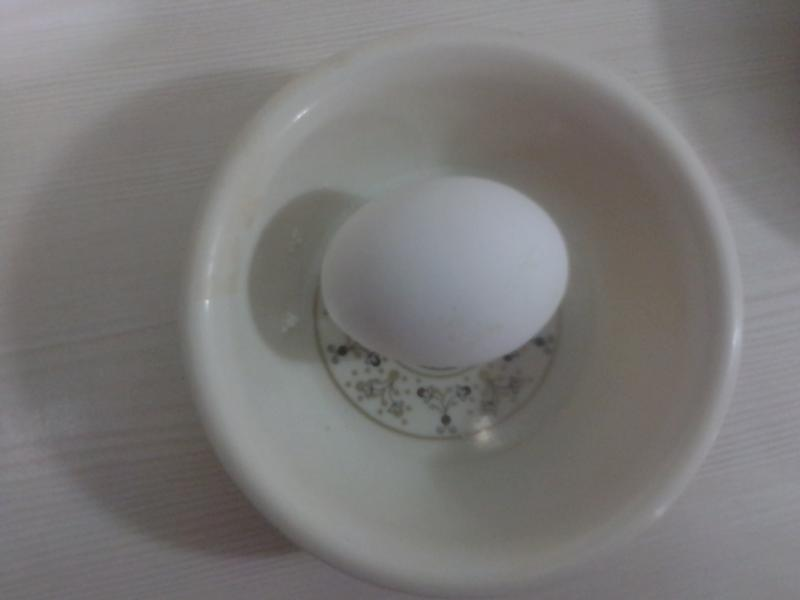egg: (322, 175, 568, 359)
